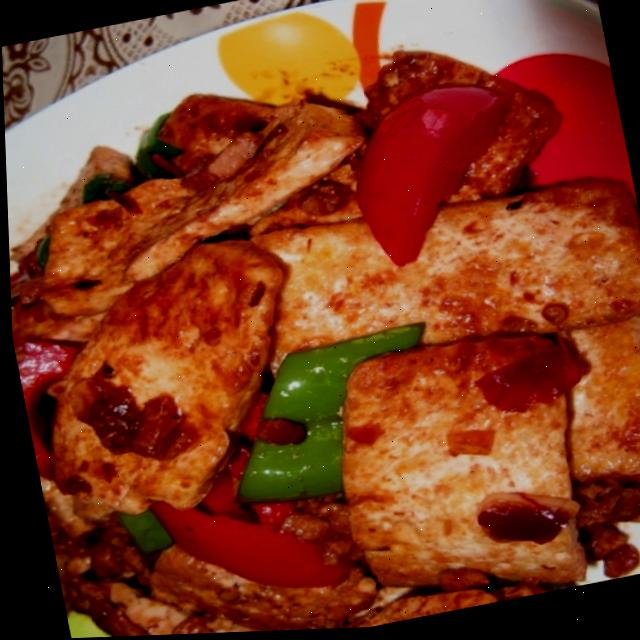豆腐料理: (1, 3, 640, 640)
